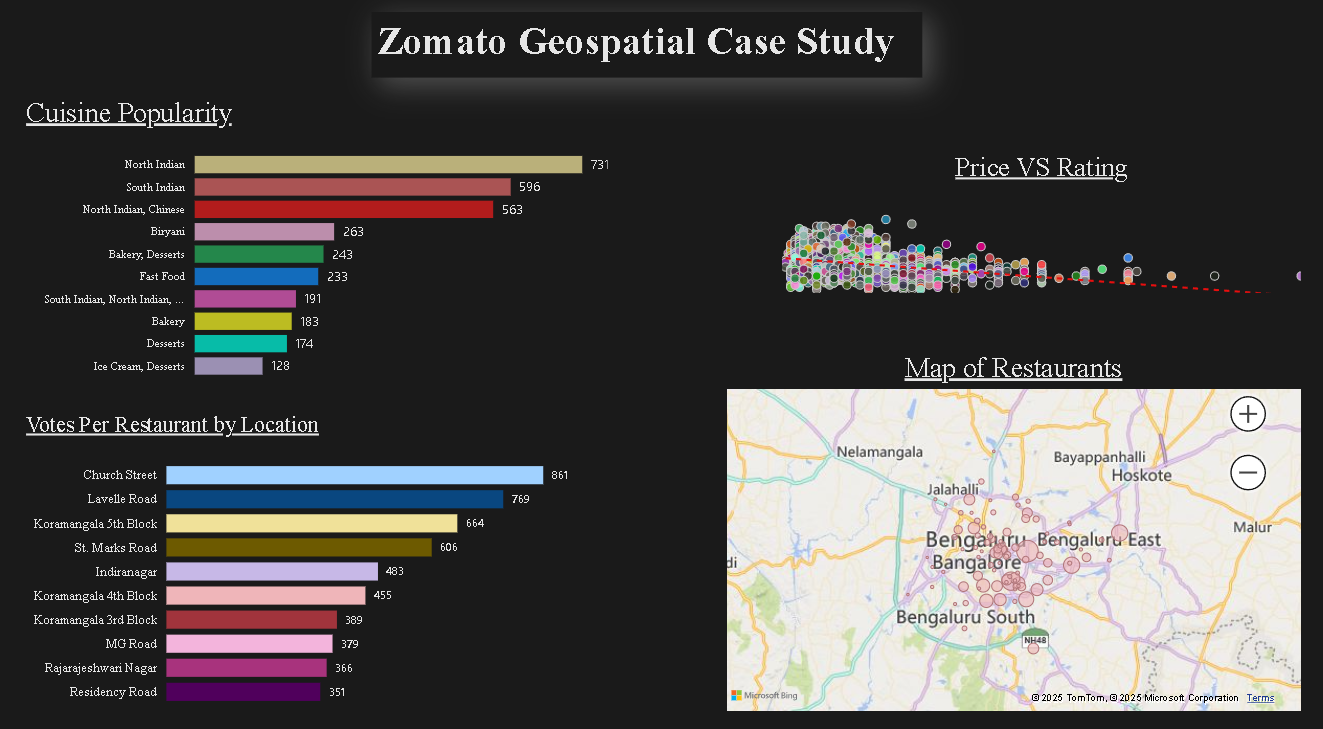

This screenshot's page, from the dashboard's own definition file:
{"tool":"powerbi","page":{"name":"Geospatial Analysis","canvas":[1280,720],"ordinal":0},"visuals":[{"type":"map","title":"Map of Restaurants","fields":{"Size":["Sum(Restaurants.Votes)"],"Category":["Restaurants.Location"],"Y":["Avg(Restaurants.Latitude)"],"X":["Avg(Restaurants.Longitude)"]},"box":[692.9,341.4,558.6,348.6],"z":0},{"type":"clusteredBarChart","title":"Cuisine Popularity","fields":{"Category":["Restaurants.Cuisines"],"Y":["CountNonNull(Restaurants.RestaurantID)"]},"box":[24.3,97.1,565.7,280],"z":1000},{"type":"scatterChart","title":"Price VS Rating","fields":{"Y":["Restaurants.AggregateRating"],"X":["Restaurants.AverageCostForTwo"],"Series":["Restaurants.Votes"]},"box":[745.7,150,505.7,140],"z":2000},{"type":"clusteredBarChart","title":"Votes Per Restaurant by Location","fields":{"Category":["Restaurants.Location"],"Y":["Restaurants.VotesPerRestaurant"]},"box":[24.3,400,598.6,290],"z":3000},{"type":"textbox","box":[360,17.1,525.7,62.9],"z":3001}]}

Visuals, with their boxes in screenshot pixels (x1, y1, x2, y2), scaled from the page's 1280x720 canvas onto the 1323x729 screenshot:
"Map of Restaurants" map: 716:346:1294:699
"Cuisine Popularity" clusteredBarChart: 25:98:610:382
"Price VS Rating" scatterChart: 771:152:1293:294
"Votes Per Restaurant by Location" clusteredBarChart: 25:405:644:699
textbox: 372:17:915:81
